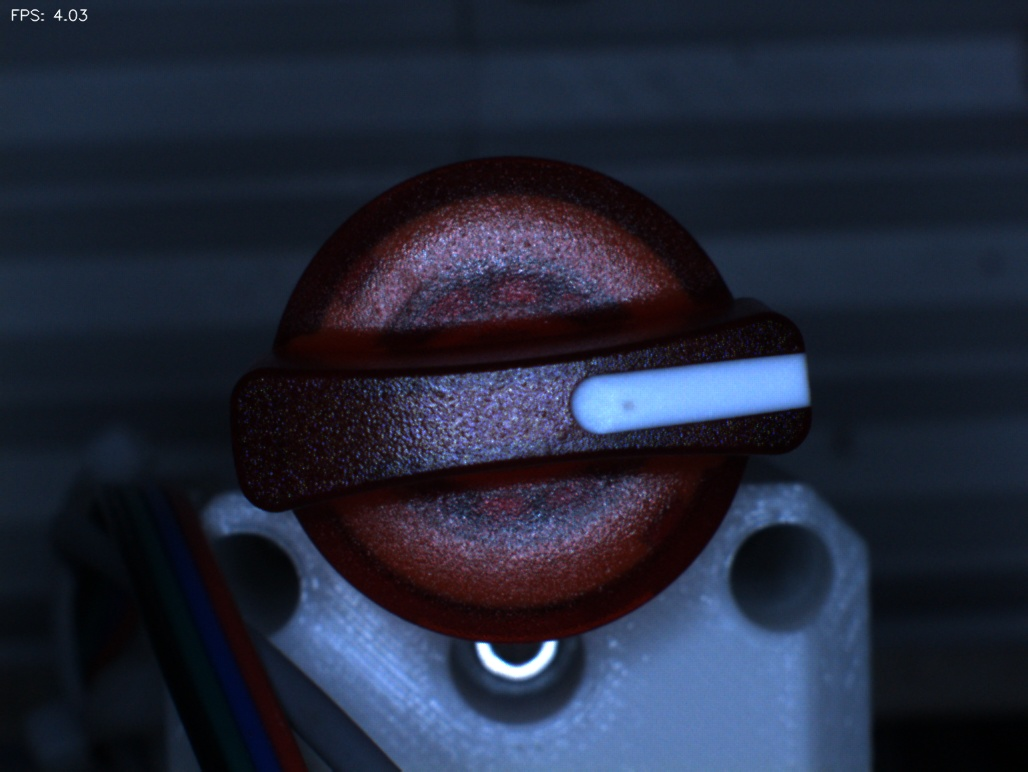PointNoir: (589, 371, 664, 442)
